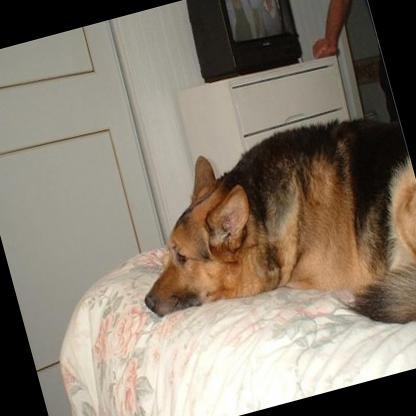German_shepherd: (103, 99, 416, 404)
